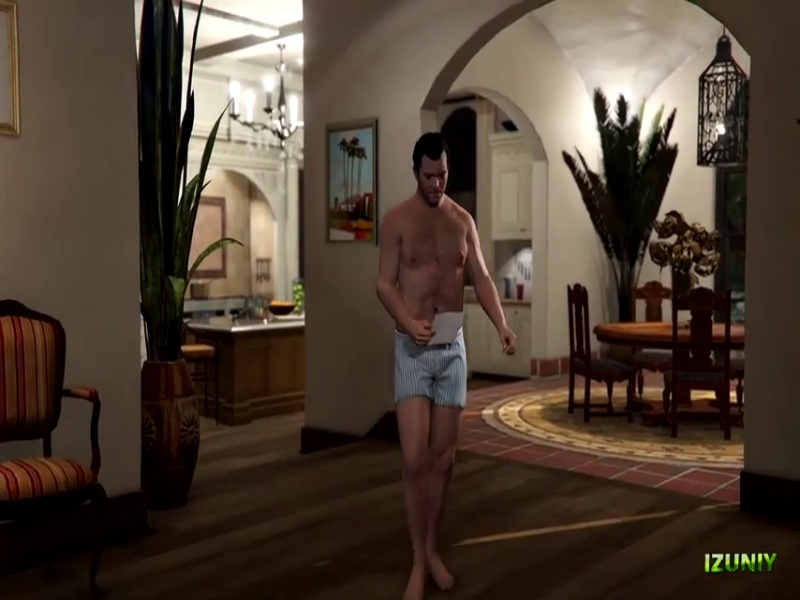human: (376, 135, 522, 600)
